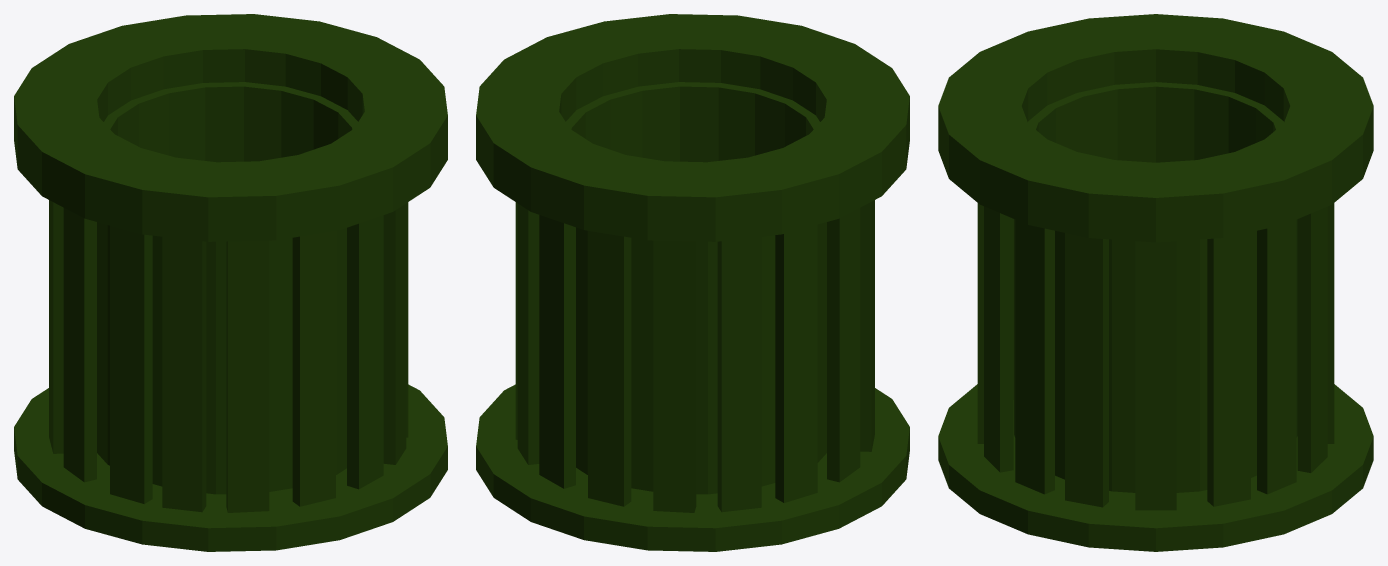
File: trash can 1.fbx
3 views of the same model, side by side, from view 1: azimuth 30°, elevation 25°; view 2: azimuth 150°, elevation 25°; view 3: azimuth 270°, elevation 25° (orthographic).
Parts seen in each view (by area): view 1: pCylinder11; view 2: pCylinder11; view 3: pCylinder11.
Part boxes in pixels (x1,y1,x2,y2): pCylinder11: (14, 14, 447, 551); pCylinder11: (476, 14, 909, 551); pCylinder11: (938, 14, 1373, 551).
Bounding box in the file's own units: 1.2 × 1.07 × 1.2.
